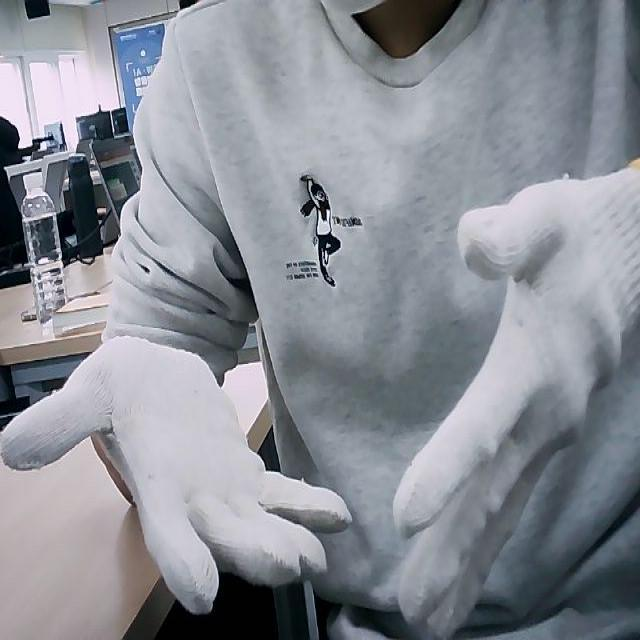gloves: (393, 152, 640, 640), (1, 332, 356, 640)
